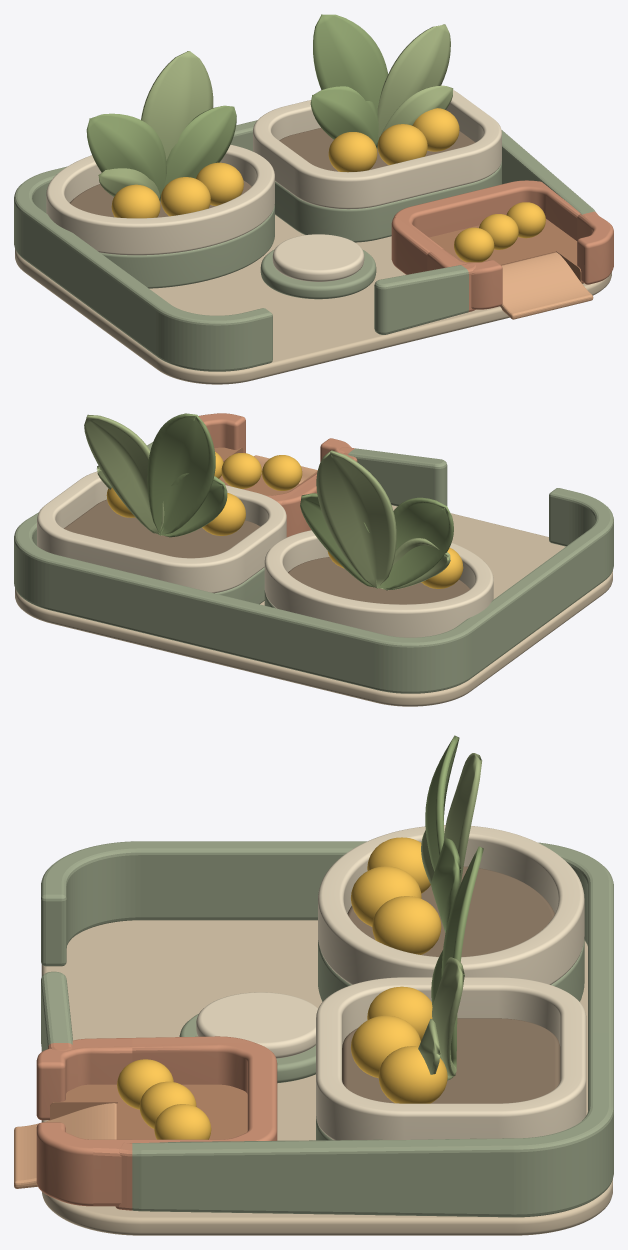
Rendered from building_food_workshop_dispatch_v5_display.glb.
The picture shows the model from 3 angles, top to bottom: view 1: azimuth 30°, elevation 25°; view 2: azimuth 150°, elevation 25°; view 3: azimuth 270°, elevation 25°; orthographic projection. The views are drawn at different scales.
Visible parts, largest first — view 1: Integrated green perimeter and terracotta dispatch wall, Single broad rounded platform, Right squared grow basin cream upper wall, Left oval grow basin cream upper wall, Left oval grow basin green foundation, Right squared grow basin green foundation, Right broad leaf 1, Left broad leaf 2, Wide smoothly blended exit ramp, Left broad leaf 1, Right broad leaf 2, Central cream upper disc (+17 smaller); view 2: Integrated green perimeter and terracotta dispatch wall, Single broad rounded platform, Right squared grow basin cream upper wall, Left oval grow basin cream upper wall, Left broad leaf 2, Right broad leaf 1, Right broad leaf 2, Right squared grow basin recessed soil, Left broad leaf 1, Left oval grow basin recessed soil, Left broad leaf 3, Right broad leaf 3 (+8 smaller); view 3: Integrated green perimeter and terracotta dispatch wall, Single broad rounded platform, Right squared grow basin cream upper wall, Left oval grow basin cream upper wall, Right squared grow basin recessed soil, Left oval grow basin recessed soil, Central cream upper disc, Trough recessed bed, Left fruit 3, Wide smoothly blended exit ramp, Right fruit 3, Right fruit 2 (+14 smaller).
Part boxes in pixels (<box>): Integrated green perimeter and terracotta dispatch wall: <box>14,120,613,371</box>; Single broad rounded platform: <box>15,215,611,384</box>; Right squared grow basin cream upper wall: <box>253,85,501,209</box>; Left oval grow basin cream upper wall: <box>46,144,274,255</box>; Left oval grow basin green foundation: <box>100,204,274,288</box>; Right squared grow basin green foundation: <box>275,161,501,242</box>; Right broad leaf 1: <box>313,14,387,113</box>; Left broad leaf 2: <box>141,51,213,160</box>; Wide smoothly blended exit ramp: <box>500,252,593,319</box>; Left broad leaf 1: <box>86,113,166,199</box>; Right broad leaf 2: <box>377,24,450,139</box>; Central cream upper disc: <box>272,234,364,281</box>; Integrated green perimeter and terracotta dispatch wall: <box>14,413,613,693</box>; Single broad rounded platform: <box>15,505,612,706</box>; Right squared grow basin cream upper wall: <box>37,471,286,593</box>; Left oval grow basin cream upper wall: <box>264,530,493,637</box>; Left broad leaf 2: <box>316,450,396,588</box>; Right broad leaf 1: <box>147,413,215,535</box>; Right broad leaf 2: <box>84,414,164,535</box>; Right squared grow basin recessed soil: <box>64,499,260,558</box>; Left broad leaf 1: <box>378,497,453,589</box>; Left oval grow basin recessed soil: <box>288,557,470,604</box>; Left broad leaf 3: <box>300,493,376,588</box>; Right broad leaf 3: <box>161,473,227,537</box>; Integrated green perimeter and terracotta dispatch wall: <box>36,841,613,1217</box>; Single broad rounded platform: <box>41,920,612,1235</box>; Right squared grow basin cream upper wall: <box>316,977,586,1140</box>; Left oval grow basin cream upper wall: <box>318,825,584,984</box>; Right squared grow basin recessed soil: <box>342,1018,560,1103</box>; Left oval grow basin recessed soil: <box>347,866,554,956</box>; Central cream upper disc: <box>196,992,317,1058</box>; Trough recessed bed: <box>50,1084,247,1139</box>; Left fruit 3: <box>372,896,441,954</box>; Wide smoothly blended exit ramp: <box>14,1103,116,1188</box>; Right fruit 3: <box>378,1046,447,1103</box>; Right fruit 2: <box>350,1015,420,1077</box>.
Bounding box in the file's own units: 8.42 × 3.58 × 6.93.
